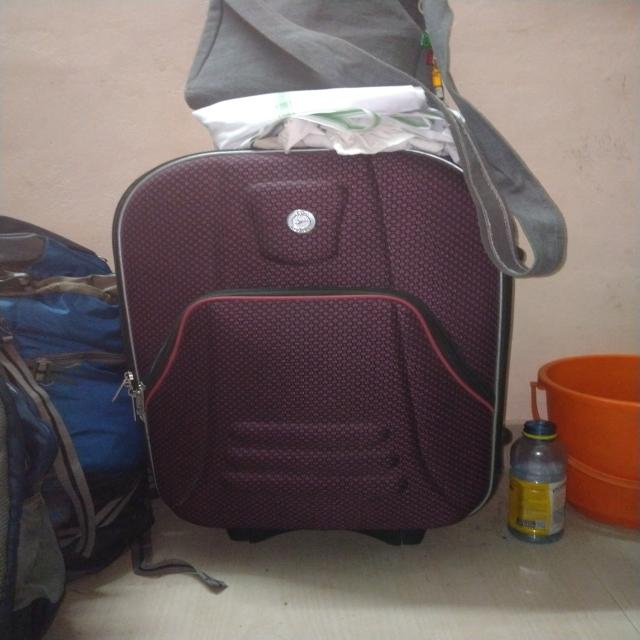suitcaserotation: (107, 142, 520, 550)
